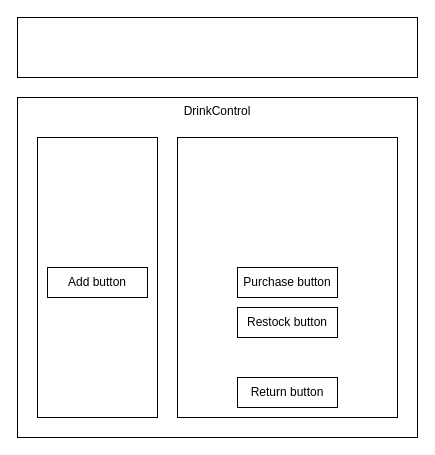
This 435x455 diagram has some shape labels left out. Here are the shapes that lost their labels. From the top down, the box of each, then its label:
(16, 16, 418, 78): Header
(36, 136, 158, 418): DrinkList name descripton price pints
(176, 136, 398, 418): DrinkDetail name description price pints
